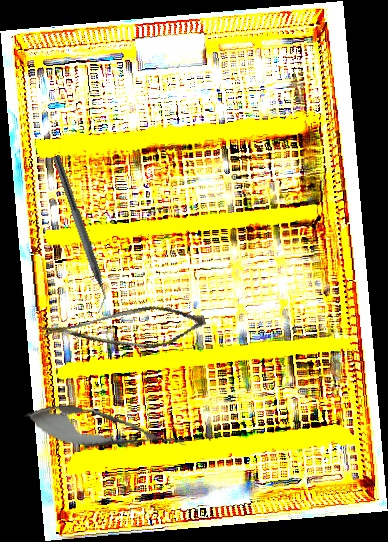Chopper: (42, 154, 115, 313)
Micro Scissor: (38, 285, 209, 376), (20, 396, 191, 464)
